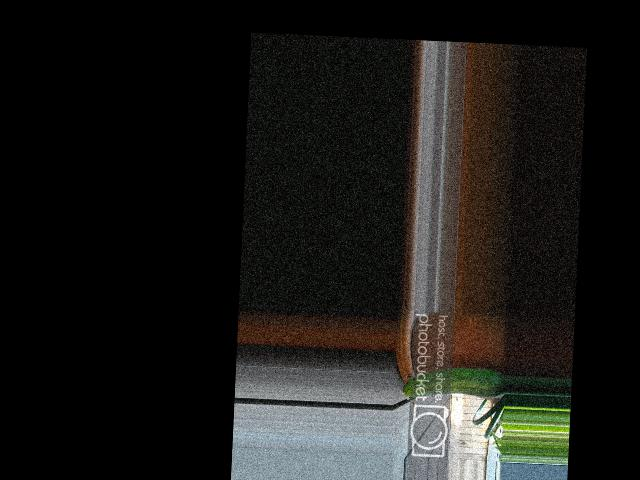cucumber: (397, 365, 505, 401)
